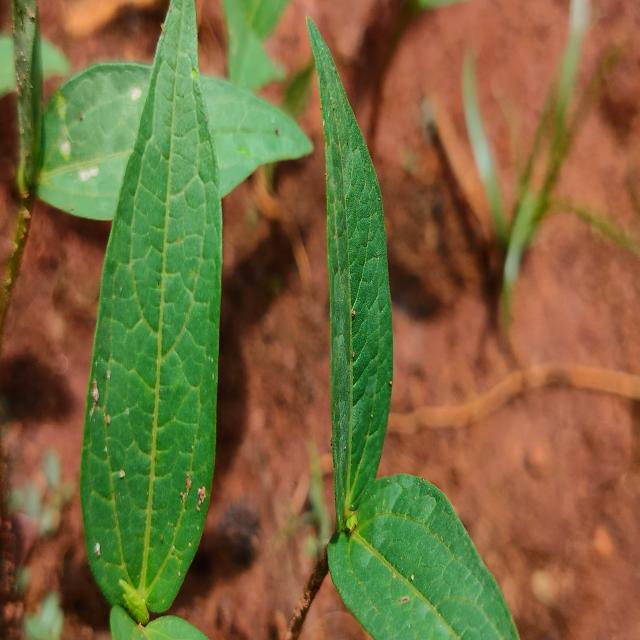Black gram_healthy: (80, 3, 225, 614), (36, 52, 315, 218), (304, 16, 394, 502), (330, 476, 517, 640)
